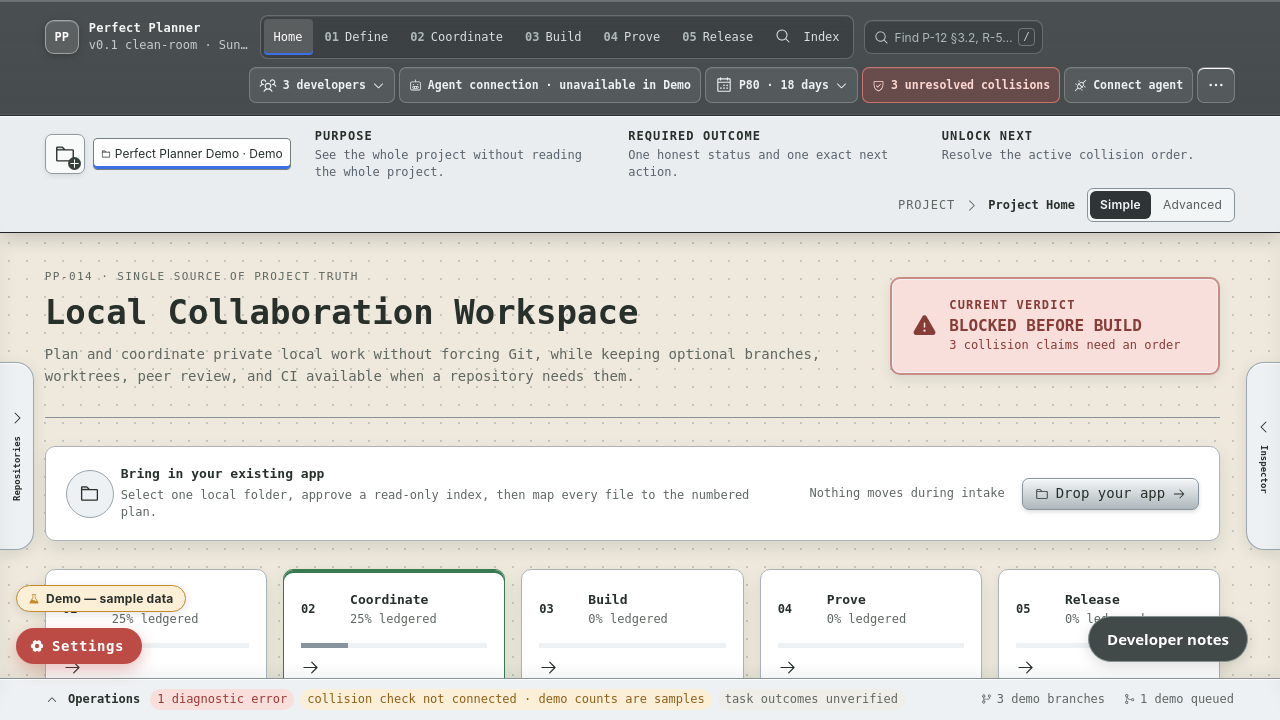
Test case: Perfect Planner shell interaction and accessibility › Operations explains stale diagnostic writes without claiming newer history was erased
Click the button with class "ops-handle" at (640, 700), box [0, 679, 1279, 719]
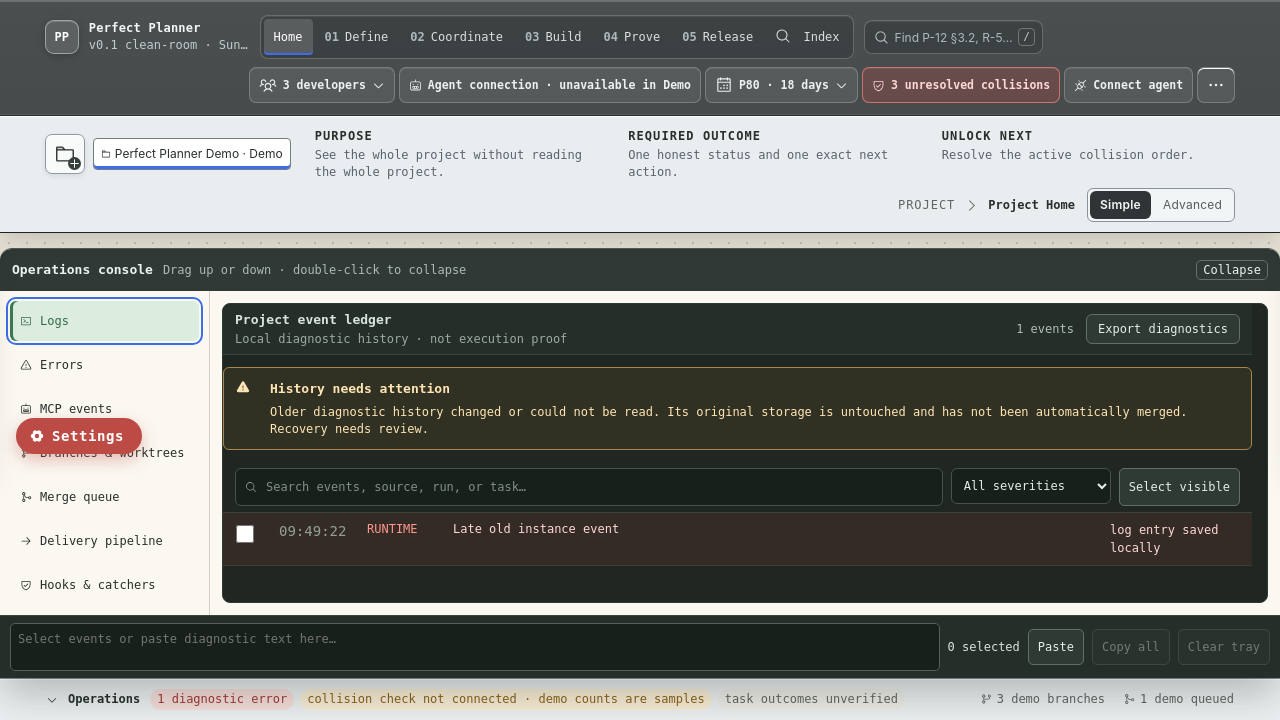
expect the text "Older diagnostic history changed or could not be read" is shown: met, box [270, 405, 1188, 436]
expect the button "Export diagnostics" is enabled: met, box [1086, 314, 1240, 344]
